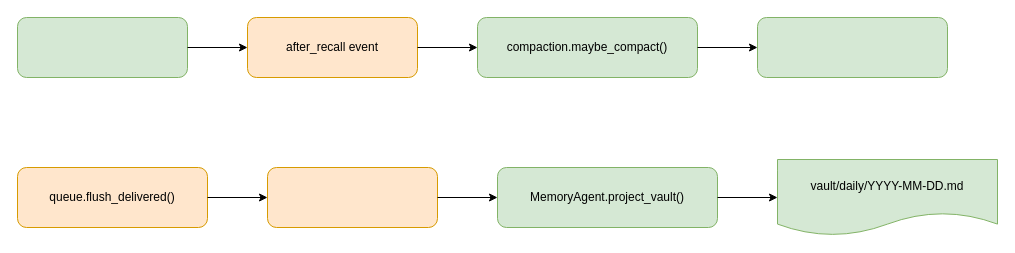
Some shapes in this 1015 by 253 pixel diagram are drawn without their labels. Each missing label, with the centre of its shape:
"after_send event" belongs at (x=352, y=197).
"persist summaries row" belongs at (x=852, y=47).
"store.recall()" belongs at (x=102, y=47).
